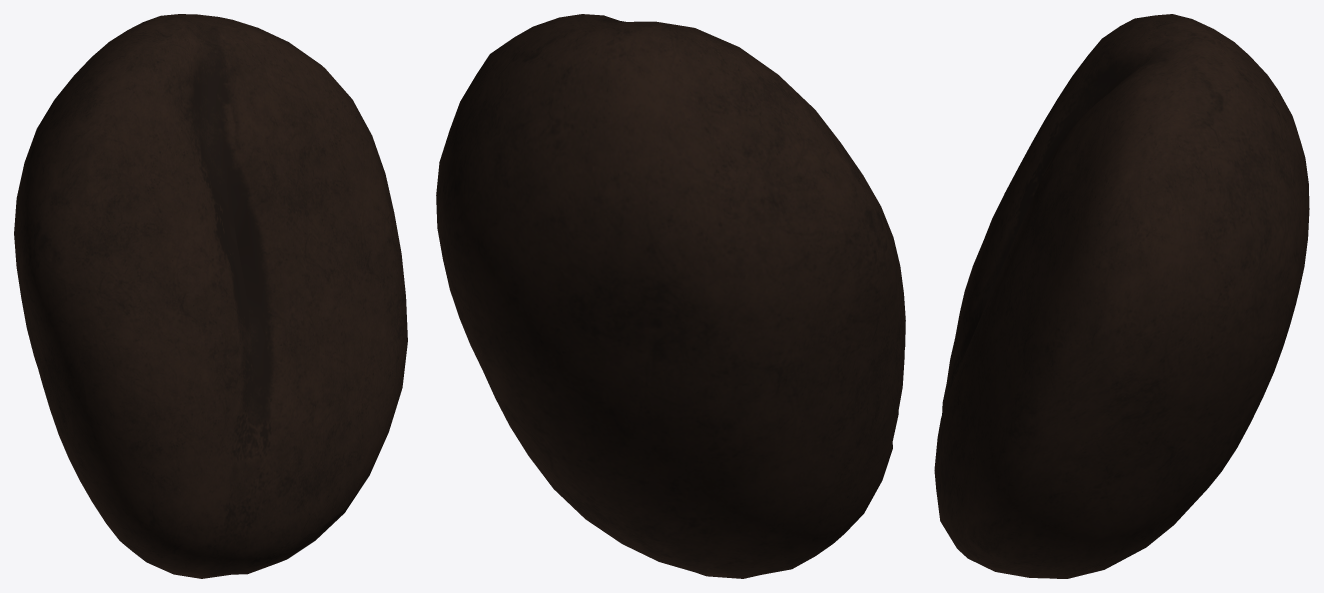
File: coffeeBean.glb
3 views of the same model, side by side, from view 1: azimuth 30°, elevation 25°; view 2: azimuth 150°, elevation 25°; view 3: azimuth 270°, elevation 25° (orthographic). The views are drawn at different scales.
Visible parts, largest first — view 1: Default_Default_0.001; view 2: Default_Default_0.001; view 3: Default_Default_0.001.
Part boxes in pixels (box(x1,y1,x2,y2)): Default_Default_0.001: box(14, 14, 407, 578); Default_Default_0.001: box(436, 14, 905, 578); Default_Default_0.001: box(934, 14, 1309, 578).
Bounding box in the file's own units: 3.1 × 4.15 × 2.59.
1 material, 1 textured.
